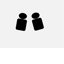human: (30, 11, 45, 31), (13, 12, 27, 31)
